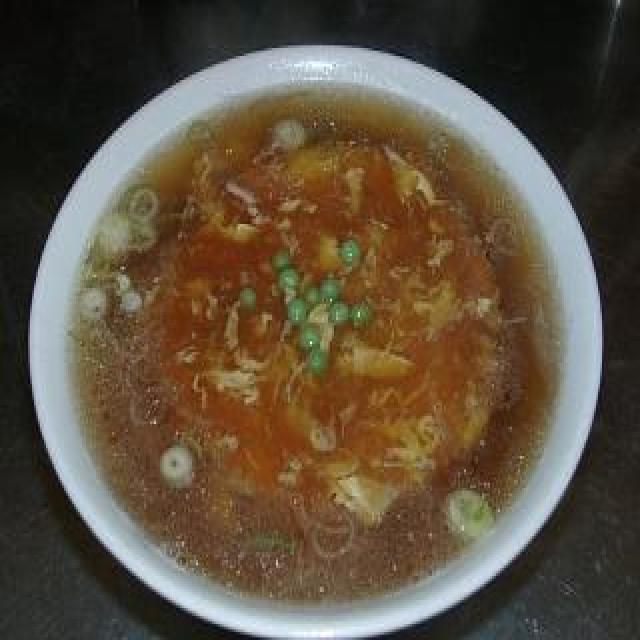面条主食: (68, 64, 580, 619)
